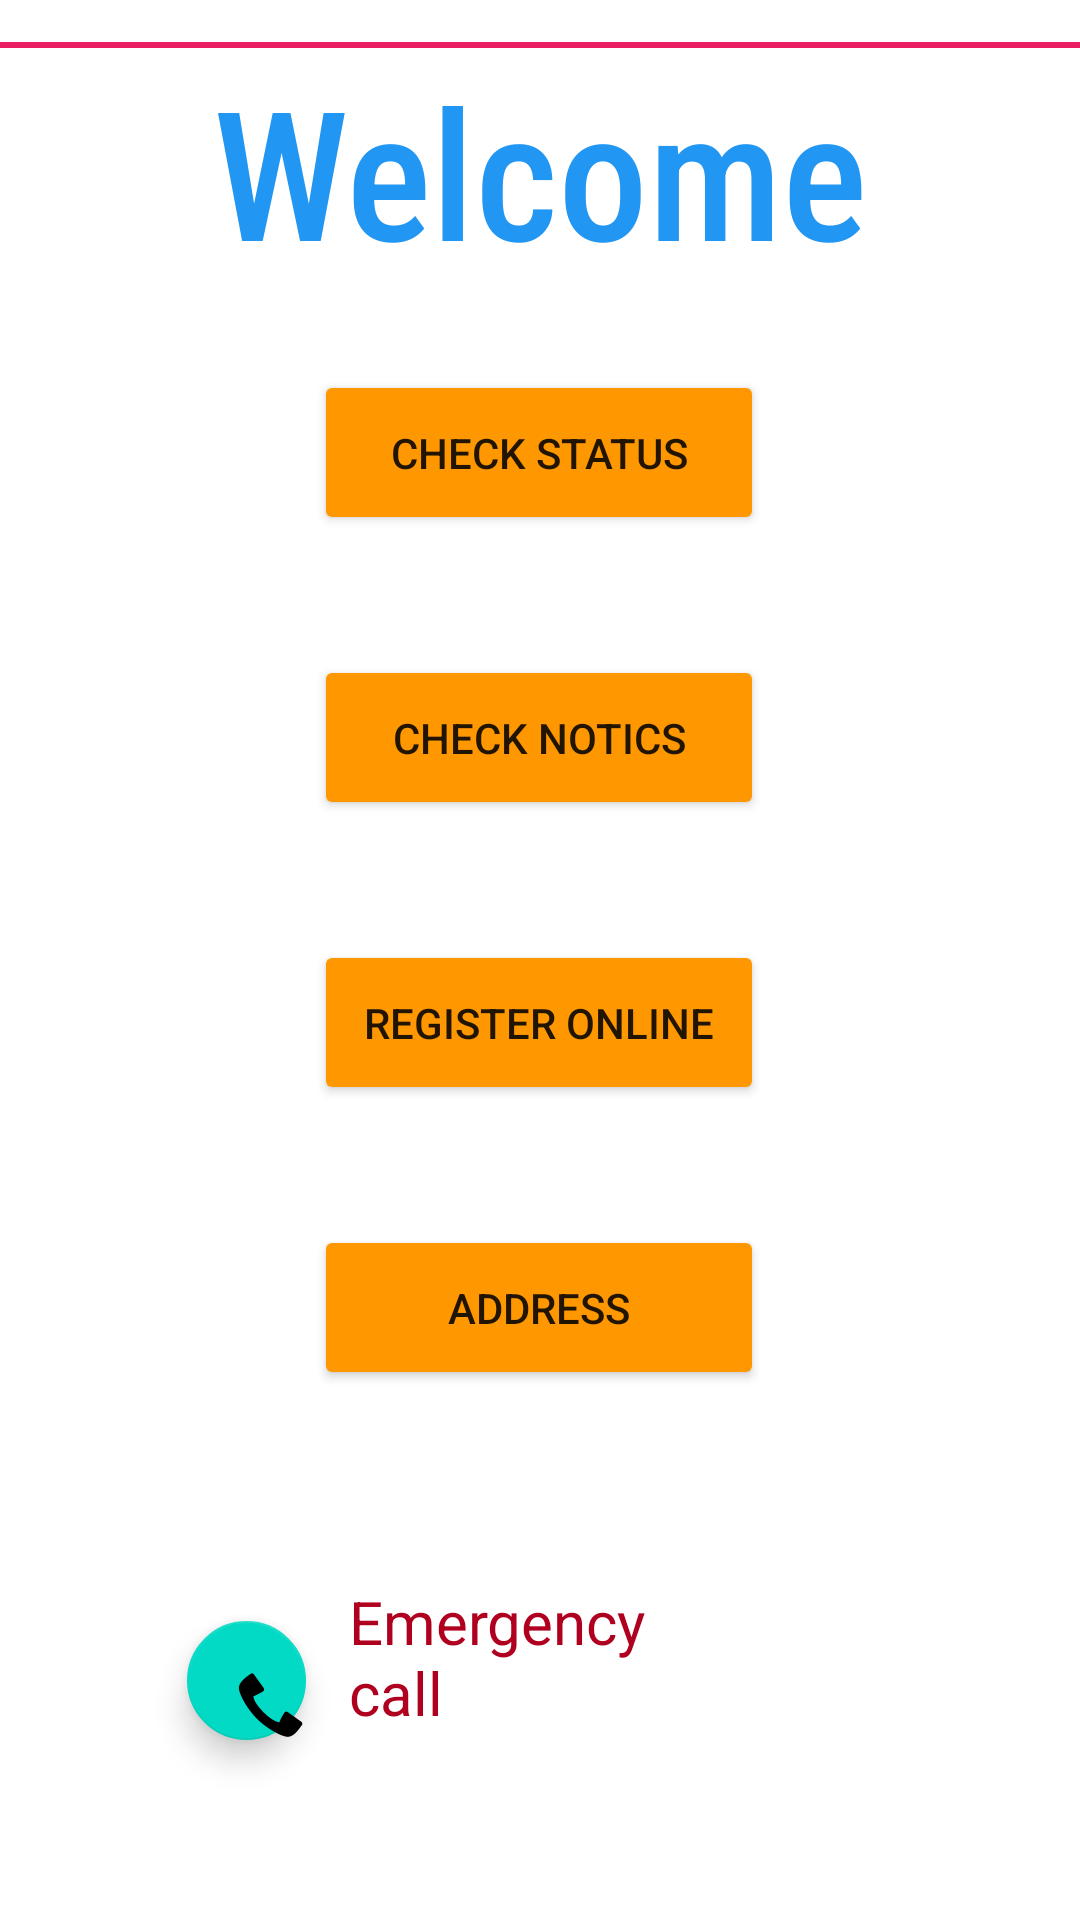

Named icons in this screenshot (1080 × 1920) and their bounding boxes, BBox(x1, y1, x2, y2):
phone call: BBox(187, 1621, 306, 1740)
